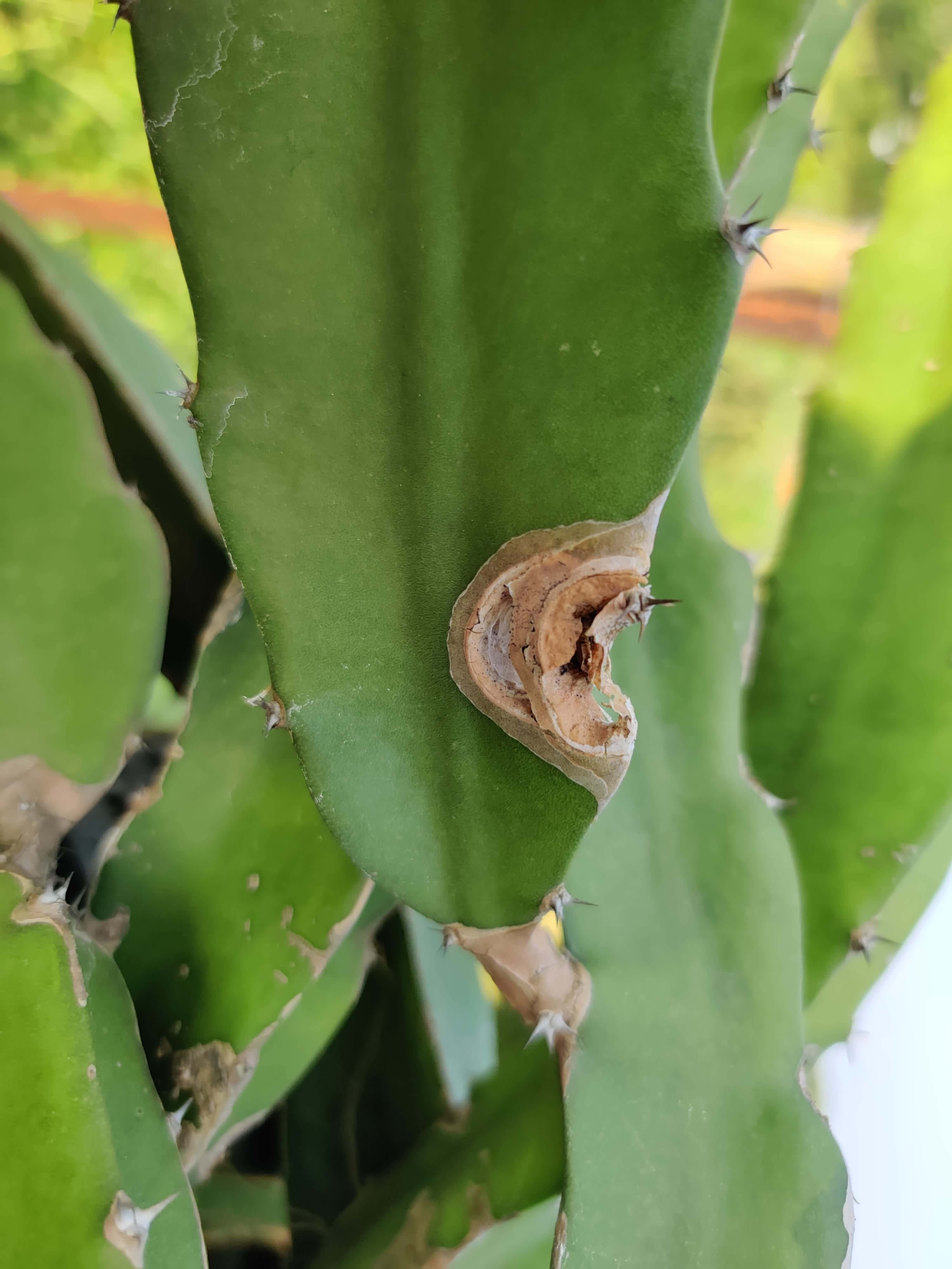stemcanker: (443, 487, 672, 815)
